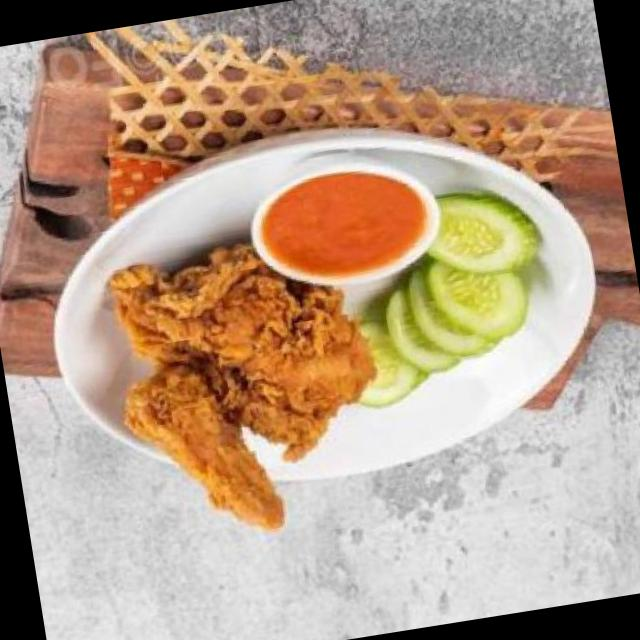Fried Chicken: (108, 240, 378, 530)
